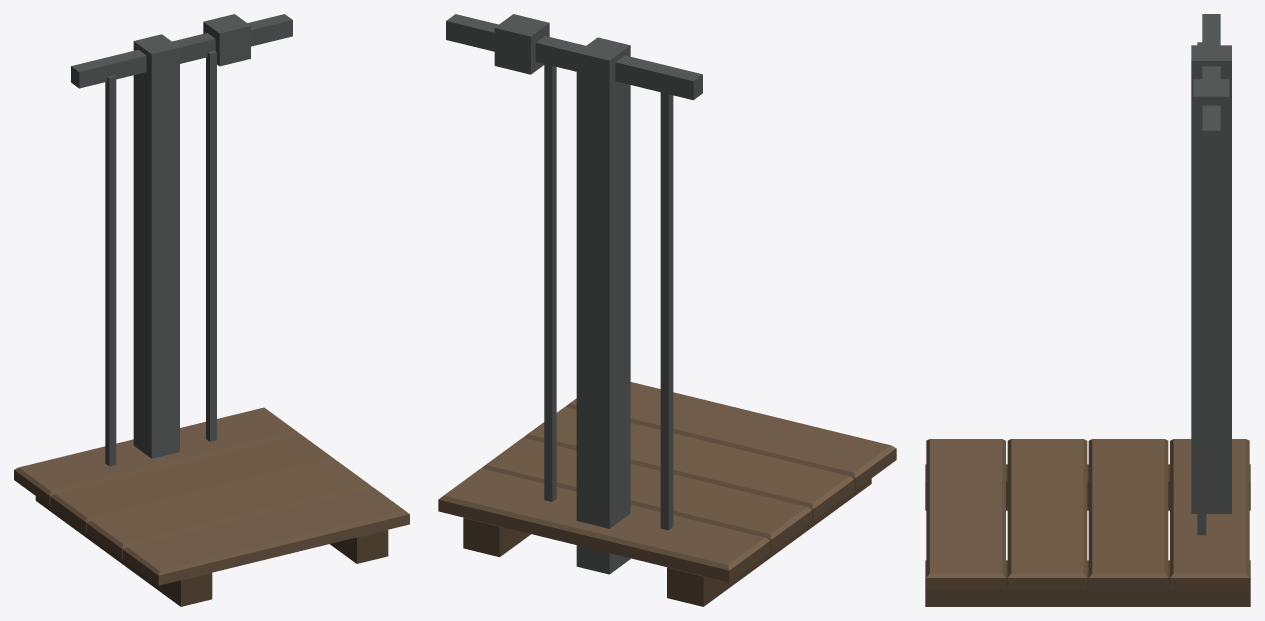
File: prp_0049_v00_scale_800x800x1350_none.glb
The picture shows the model from 3 angles, left to right: view 1: azimuth 30°, elevation 25°; view 2: azimuth 150°, elevation 25°; view 3: azimuth 270°, elevation 25°; orthographic projection. The views are drawn at different scales.
Visible parts, largest first — view 1: asset__detail_vertex_wood, asset__detail_vertex_iron; view 2: asset__detail_vertex_wood, asset__detail_vertex_iron; view 3: asset__detail_vertex_wood, asset__detail_vertex_iron.
Boxes of the visible parts, x1,y1,x2,y2 form: asset__detail_vertex_wood: (14, 407, 409, 606); asset__detail_vertex_iron: (71, 14, 292, 466); asset__detail_vertex_wood: (438, 382, 896, 606); asset__detail_vertex_iron: (446, 14, 702, 574); asset__detail_vertex_wood: (925, 439, 1250, 606); asset__detail_vertex_iron: (1191, 14, 1231, 535).
Bounding box in the file's own units: 0.82 × 1.36 × 0.8.
